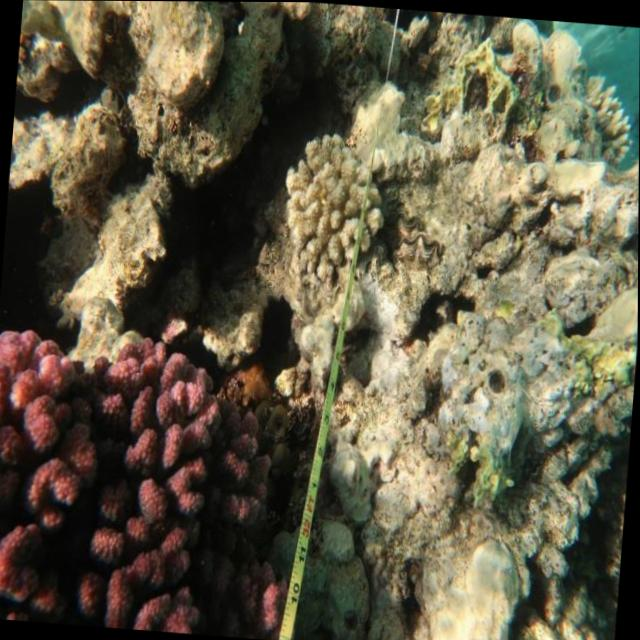Healthy Coral: (0, 318, 303, 640)
